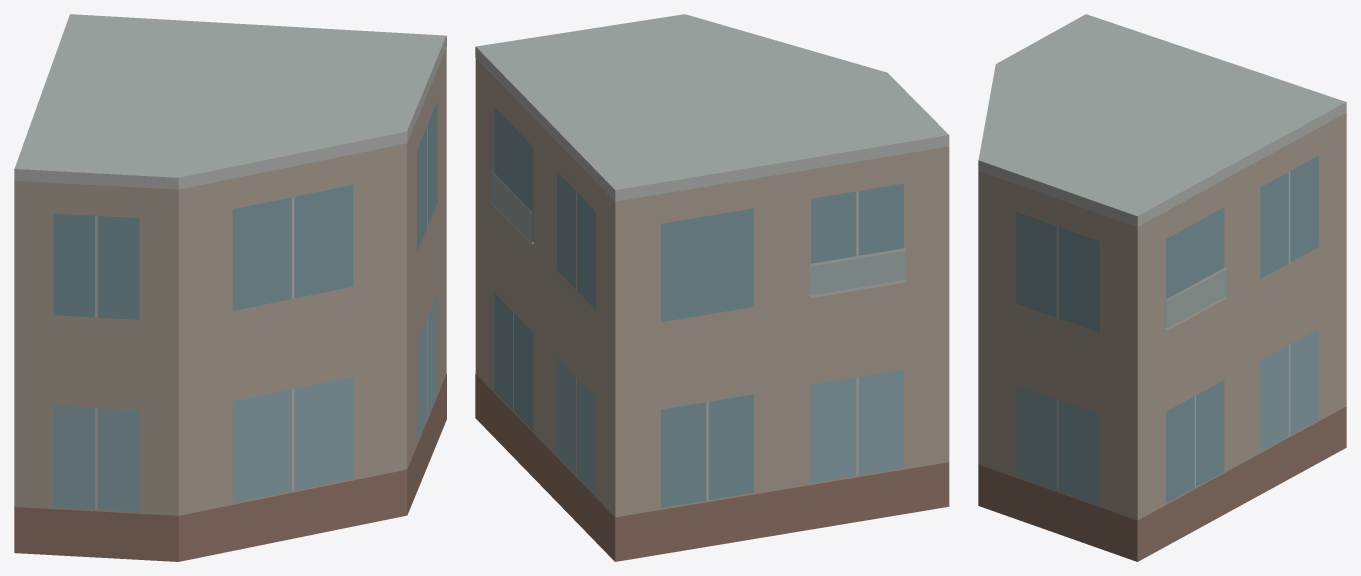
The model's file is survey-upis-32886962.glb.
3 views of the same model, side by side, from view 1: azimuth 30°, elevation 25°; view 2: azimuth 150°, elevation 25°; view 3: azimuth 270°, elevation 25° (orthographic). The views are drawn at different scales.
Parts seen in each view (by area): view 1: survey-upis-32886962.tmp; view 2: survey-upis-32886962.tmp; view 3: survey-upis-32886962.tmp.
Part boxes in pixels (left/top/right/bottom): survey-upis-32886962.tmp: left=14, top=14, right=446, bottom=561; survey-upis-32886962.tmp: left=475, top=14, right=949, bottom=561; survey-upis-32886962.tmp: left=978, top=14, right=1346, bottom=561.
Bounding box in the file's own units: 9.93 × 7.9 × 7.64.
